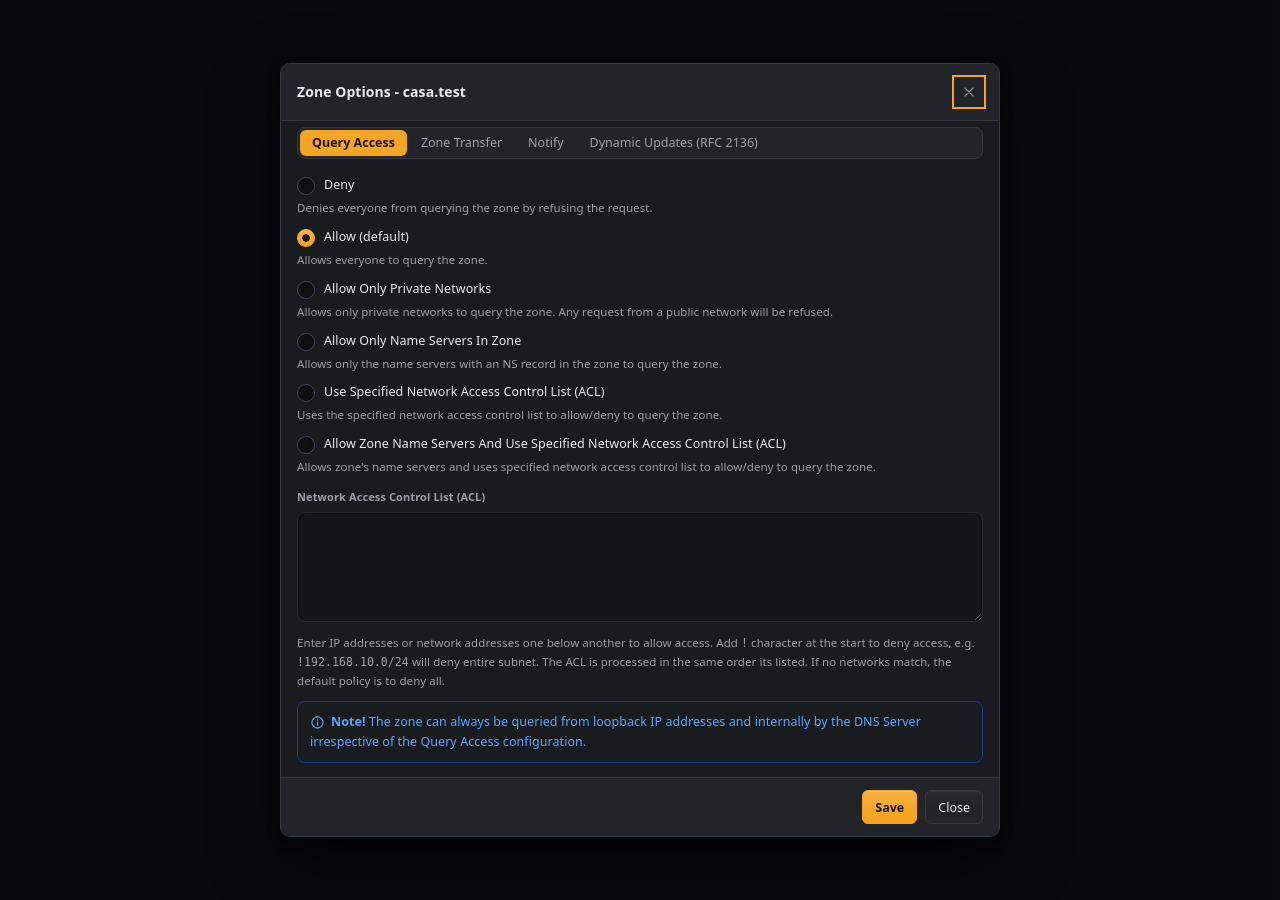
Test: Zone Options: the explanation under each radio › Zone Transfer: five texts, the ACL help and both Notes
Step 1. Click the tab "Zone Transfer" → [462, 143], box [409,130,514,156]
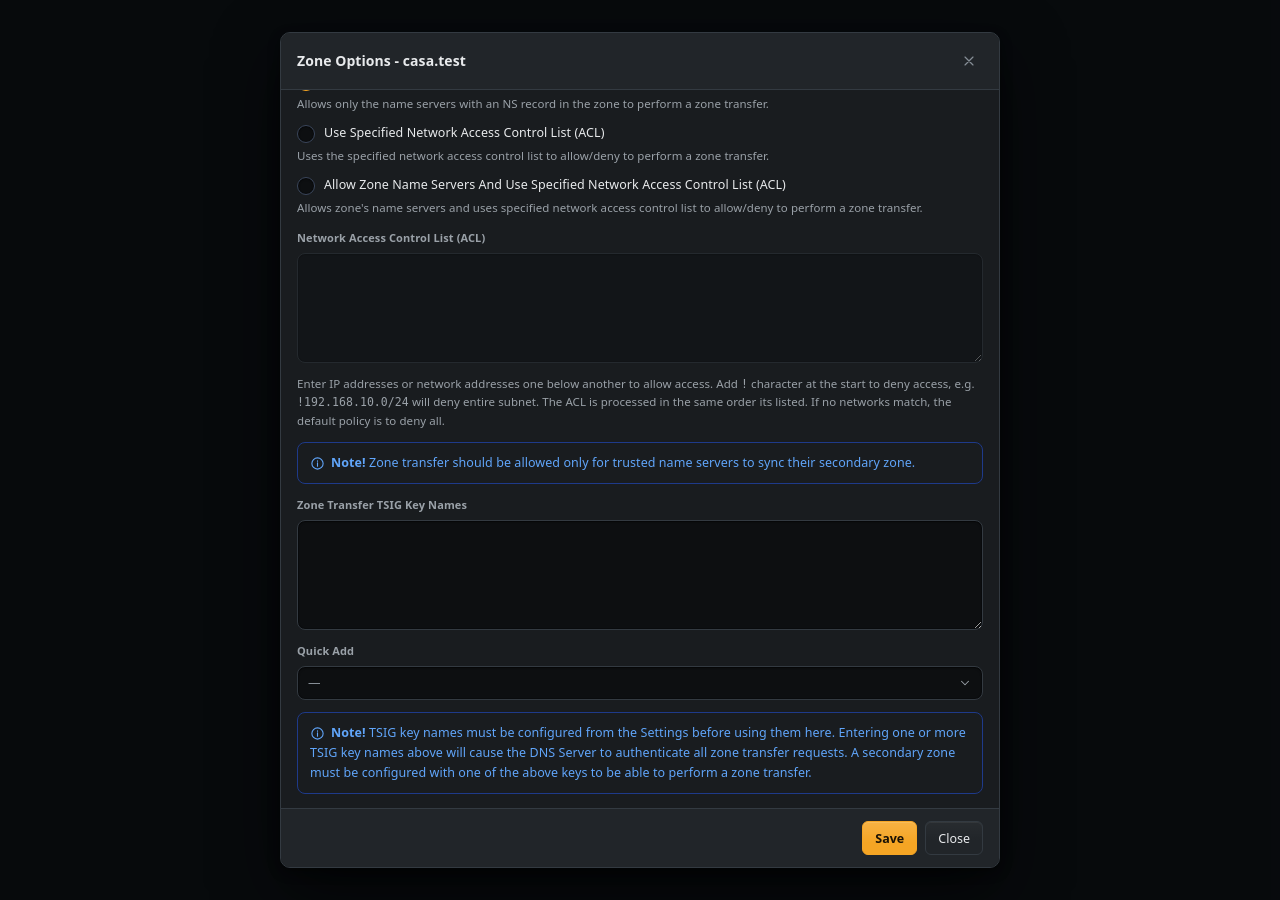
Expected: the text "Allows only the name servers with an NS record in the zone to perform a zone transfer." is shown, [297,96,769,111]
Expected: the text "Uses the specified network access control list to allow/deny to perform a zone transfer." is shown, [297,148,769,163]
Expected: the text "Allows zone's name servers and uses specified network access control list to allow/deny to perform a zone transfer." is shown, [297,200,923,215]
